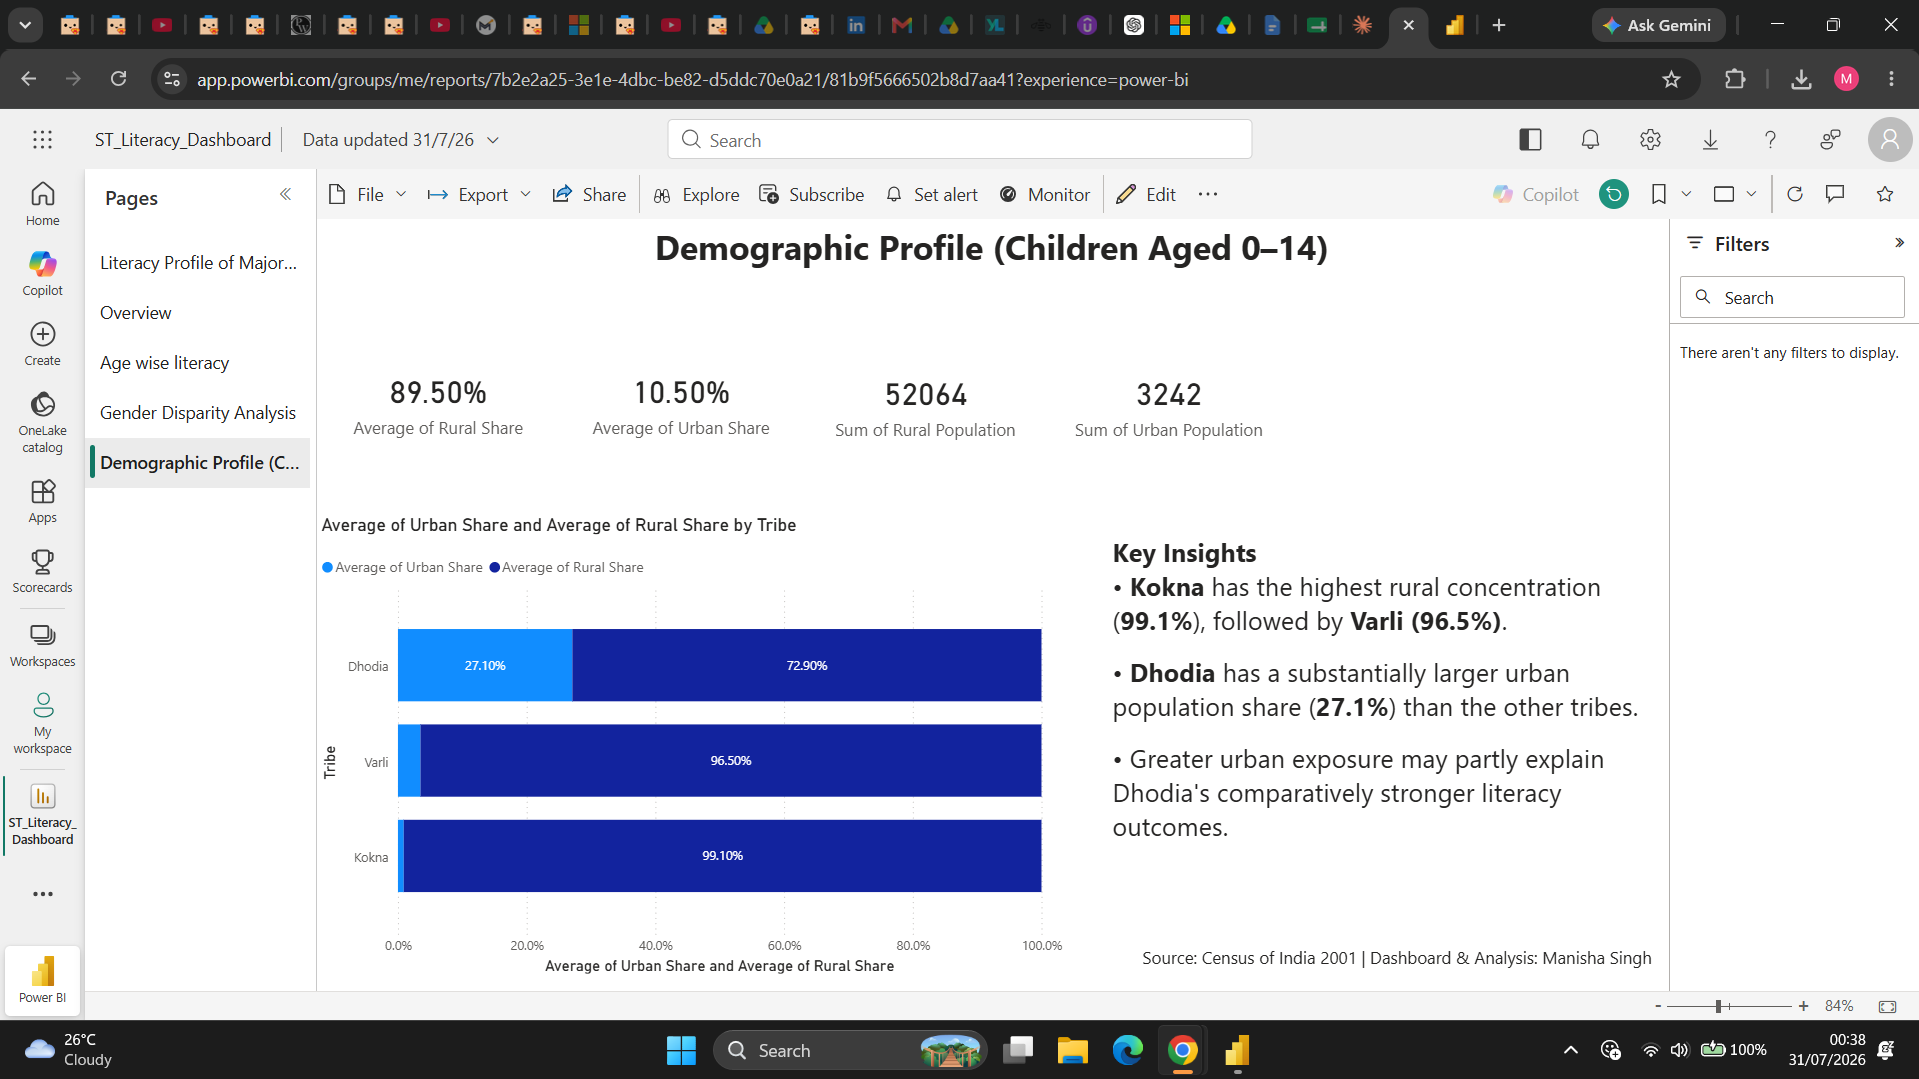

What the dashboard file says about the page in this screenshot:
{"tool":"powerbi","page":{"name":"Demographic Profile (Children Aged 0–14)","canvas":[1280,720],"ordinal":4},"visuals":[{"type":"textbox","box":[311.5,0,657.3,56.3],"z":0},{"type":"card","fields":{"Values":["Avg(RURAL URBAN DIVIDE (2).Rural %)"]},"box":[0,65.9,231.9,214.1],"z":1000},{"type":"card","fields":{"Values":["Avg(RURAL URBAN DIVIDE (2).Urban %)"]},"box":[231.9,65.9,227.8,214.1],"z":2000},{"type":"card","fields":{"Values":["Sum(RURAL URBAN DIVIDE (2).Rural Population)"]},"box":[459.7,70,236,209.9],"z":3000},{"type":"card","fields":{"Values":["Sum(RURAL URBAN DIVIDE (2).Urban Population)"]},"box":[695.7,71.4,223.7,208.6],"z":4000},{"type":"barChart","fields":{"Category":["RURAL URBAN DIVIDE (2).Tribe"],"Y":["Avg(RURAL URBAN DIVIDE (2).Urban Share)","Avg(RURAL URBAN DIVIDE (2).Rural Share)"]},"box":[0,279.9,712.2,440.5],"z":5000},{"type":"textbox","box":[749.2,295,531,360.9],"z":6000},{"type":"textbox","box":[778,683.4,502.2,37],"z":7000}]}

Visuals, with their boxes on the page's 1280x720 design canvas (x1, y1, x2, y2). These are canvas units, not pixel positions in the 1919x1079 screenshot, which may show the page scaled, cropped or inside an application window:
textbox: locate(312, 0, 969, 56)
card - Avg(RURAL URBAN DIVIDE (2).Rural %): locate(0, 66, 232, 280)
card - Avg(RURAL URBAN DIVIDE (2).Urban %): locate(232, 66, 460, 280)
card - Sum(RURAL URBAN DIVIDE (2).Rural Population): locate(460, 70, 696, 280)
card - Sum(RURAL URBAN DIVIDE (2).Urban Population): locate(696, 71, 919, 280)
barChart - RURAL URBAN DIVIDE (2).Tribe x Avg(RURAL URBAN DIVIDE (2).Urban Share): locate(0, 280, 712, 720)
textbox: locate(749, 295, 1280, 656)
textbox: locate(778, 683, 1280, 720)
